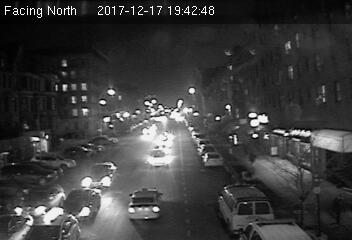car: (58, 189, 104, 223), (125, 186, 165, 220), (81, 162, 118, 192), (147, 148, 174, 169), (203, 152, 222, 167)
police: (217, 181, 278, 229)
